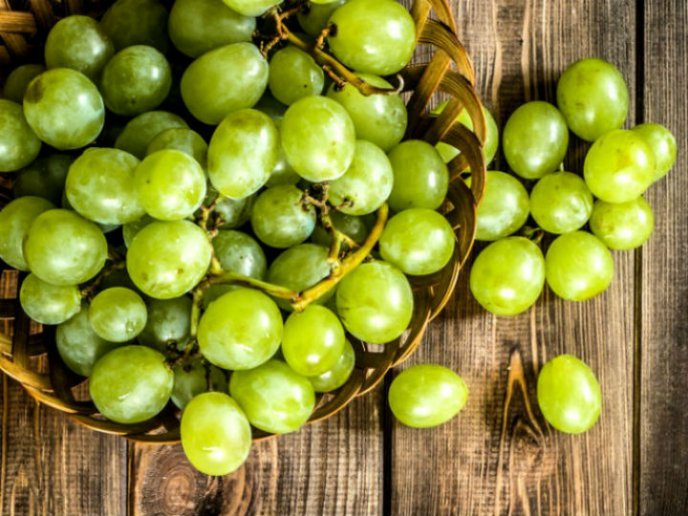Green grapes: (30, 45, 444, 419), (526, 354, 611, 442), (389, 364, 473, 432)
